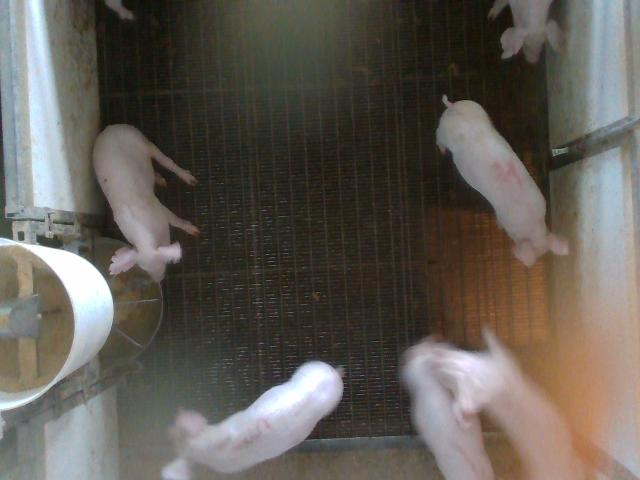pig-3: (161, 361, 344, 479)
pig-4: (436, 95, 568, 266)
